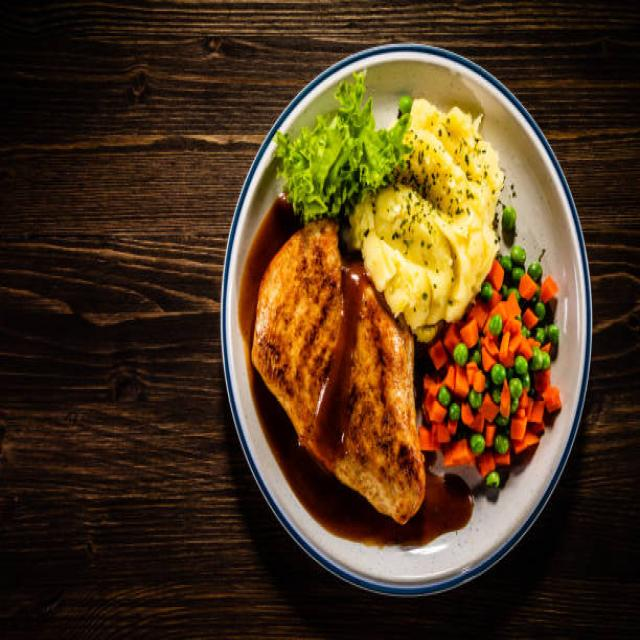Frango: (251, 216, 429, 528)
